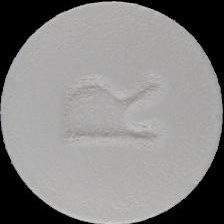54868-6339: (0, 0, 224, 224)
